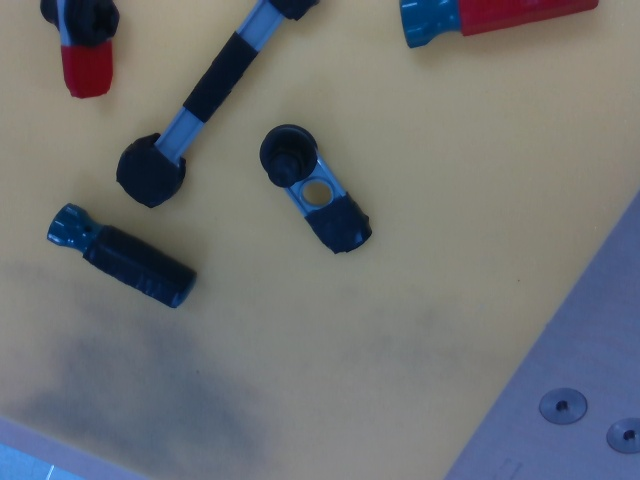part_1_good: (37, 1, 122, 102)
